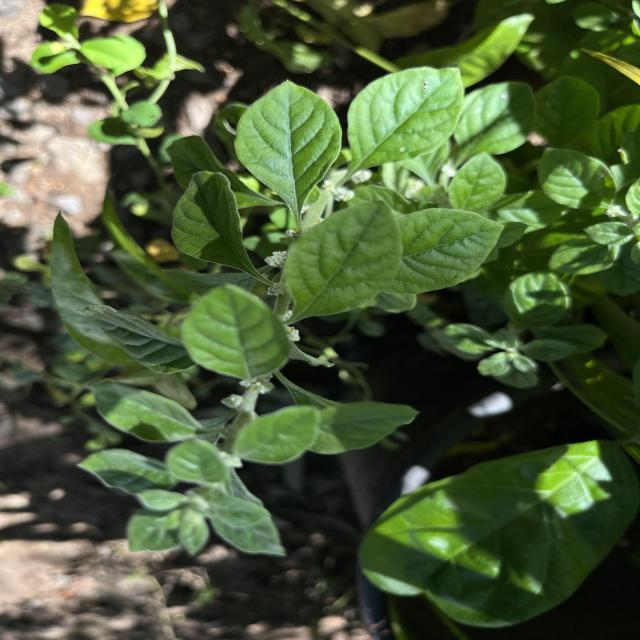Aerva lanata: (232, 77, 345, 217), (381, 205, 507, 297), (169, 170, 258, 278)
